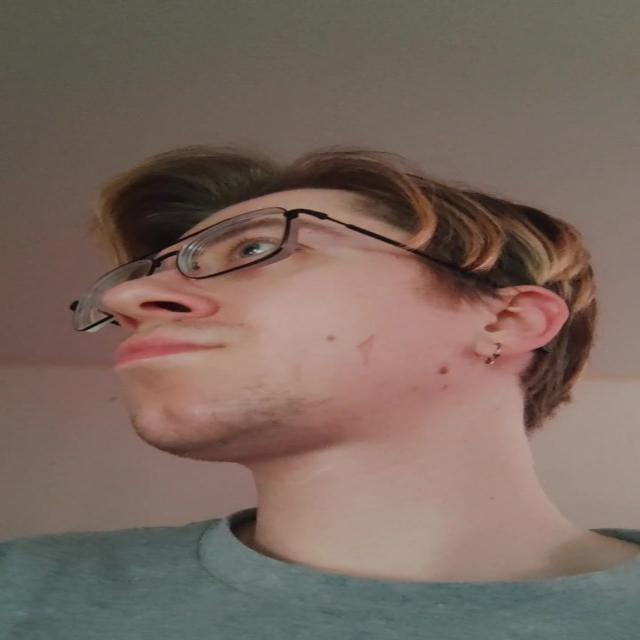earlobe: (474, 286, 570, 359)
